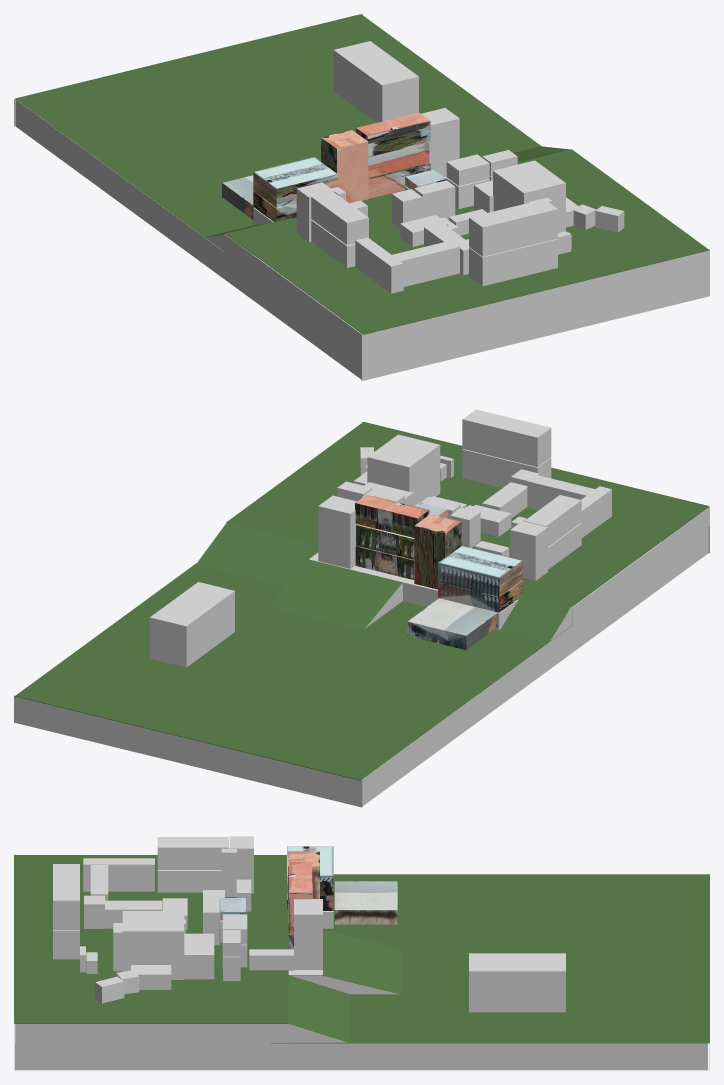
The model's file is scots1.gltf.
The picture shows the model from 3 angles, top to bottom: view 1: azimuth 30°, elevation 25°; view 2: azimuth 150°, elevation 25°; view 3: azimuth 270°, elevation 25°; orthographic projection.
Visible parts, largest first — view 1: Ground.002, Ground.001, Ground.017, Ground.014, Hodge HSC, Mckinnon MK11 mk12 mk13 mk14 mk15, Gym GYM11 GYM03 GYM02, Ground, MckinnonBottom MK1 MK2 MK3 MK4 MK5, GRooms 14 13 02 04 03, CPACTop C11 GR2 GR1 AR2 AR3 AR1, AitkenTop 20 21 22 (+16 smaller); view 2: Ground.002, Ground.001, Ground.014, Ground.016, Ground.004, Hodge HSC, Ground.005, Mckinnon MK11 mk12 mk13 mk14 mk15, Gym GYM11 GYM03 GYM02, Hall, CPACTop C11 GR2 GR1 AR2 AR3 AR1, Ground (+17 smaller); view 3: Ground.002, Ground.001, Ground.015, Hodge HSC, Ground.018, Ground.004, Gym GYM11 GYM03 GYM02, Ground.005, Hall, PrepUpstairs P14 P13 P12 P11, ScienceBuilding SL11 SL12 SL2 SL1, PrepBlock1 M02 M03 (+27 smaller).
Part boxes in pixels (x1,y1,x2,y2): Ground.002: [15, 14, 541, 254]; Ground.001: [226, 149, 709, 334]; Ground.017: [361, 249, 709, 380]; Ground.014: [15, 99, 361, 379]; Hodge HSC: [333, 41, 418, 122]; Mckinnon MK11 mk12 mk13 mk14 mk15: [469, 199, 557, 256]; Gym GYM11 GYM03 GYM02: [493, 160, 565, 232]; Ground: [224, 234, 361, 353]; MckinnonBottom MK1 MK2 MK3 MK4 MK5: [469, 239, 557, 286]; GRooms 14 13 02 04 03: [321, 130, 368, 203]; CPACTop C11 GR2 GR1 AR2 AR3 AR1: [253, 157, 337, 207]; AitkenTop 20 21 22: [356, 112, 430, 156]; Ground.002: [15, 563, 571, 780]; Ground.001: [226, 422, 708, 606]; Ground.014: [362, 527, 708, 805]; Ground.016: [14, 695, 362, 807]; Ground.004: [269, 559, 402, 630]; Hodge HSC: [149, 582, 234, 667]; Ground.005: [196, 522, 318, 586]; Mckinnon MK11 mk12 mk13 mk14 mk15: [462, 409, 551, 466]; Gym GYM11 GYM03 GYM02: [367, 434, 440, 505]; Hall: [407, 598, 497, 650]; CPACTop C11 GR2 GR1 AR2 AR3 AR1: [438, 546, 522, 596]; Ground: [572, 507, 709, 626]; Ground.002: [271, 874, 709, 1043]; Ground.001: [14, 855, 288, 1023]; Ground.015: [15, 1043, 707, 1069]; Hodge HSC: [469, 953, 565, 1012]; Ground.018: [15, 1023, 289, 1042]; Ground.004: [323, 929, 401, 993]; Gym GYM11 GYM03 GYM02: [122, 911, 184, 979]; Ground.005: [288, 975, 349, 1042]; Hall: [334, 881, 397, 924]; PrepUpstairs P14 P13 P12 P11: [157, 837, 228, 869]; ScienceBuilding SL11 SL12 SL2 SL1: [294, 899, 322, 969]; PrepBlock1 M02 M03: [83, 858, 154, 891].
Bounding box in the file's own units: 183 × 57.41 × 317.
Materials: 52 (8 with a texture image).
